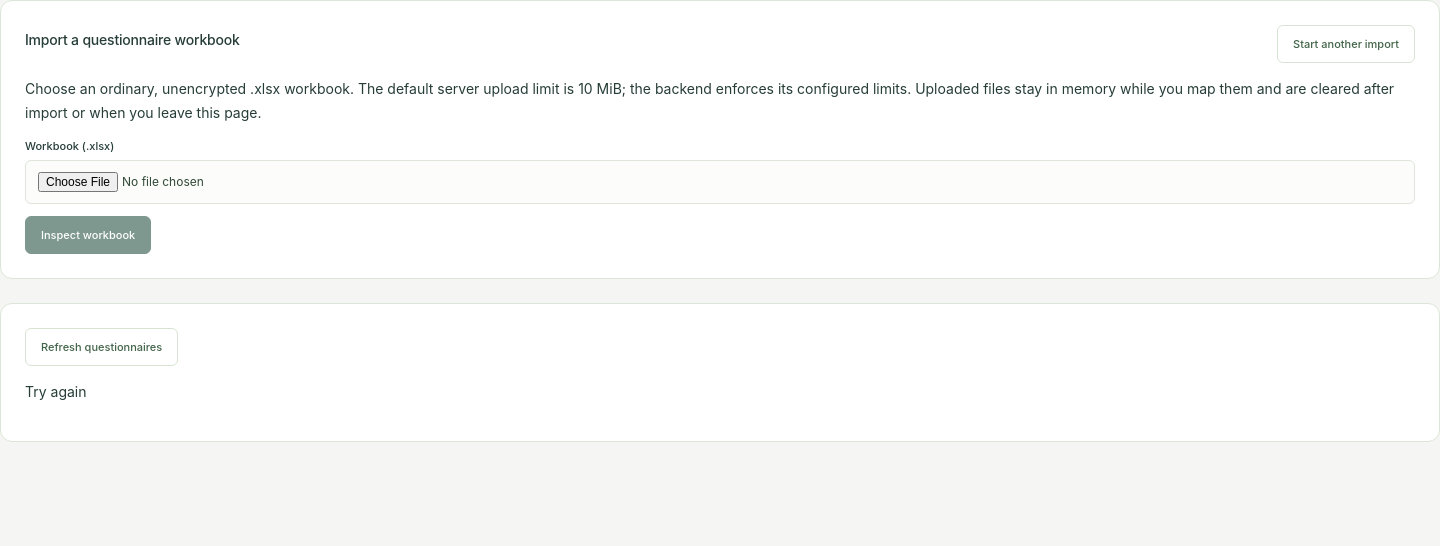
Test case: shows list errors and supports refresh
Expected: the message reads "Try again", top-left (25, 383), bottom-right (86, 400)
Step 1. Click the button "Refresh questionnaires" → (102, 347), box top-left (25, 328), bottom-right (178, 366)
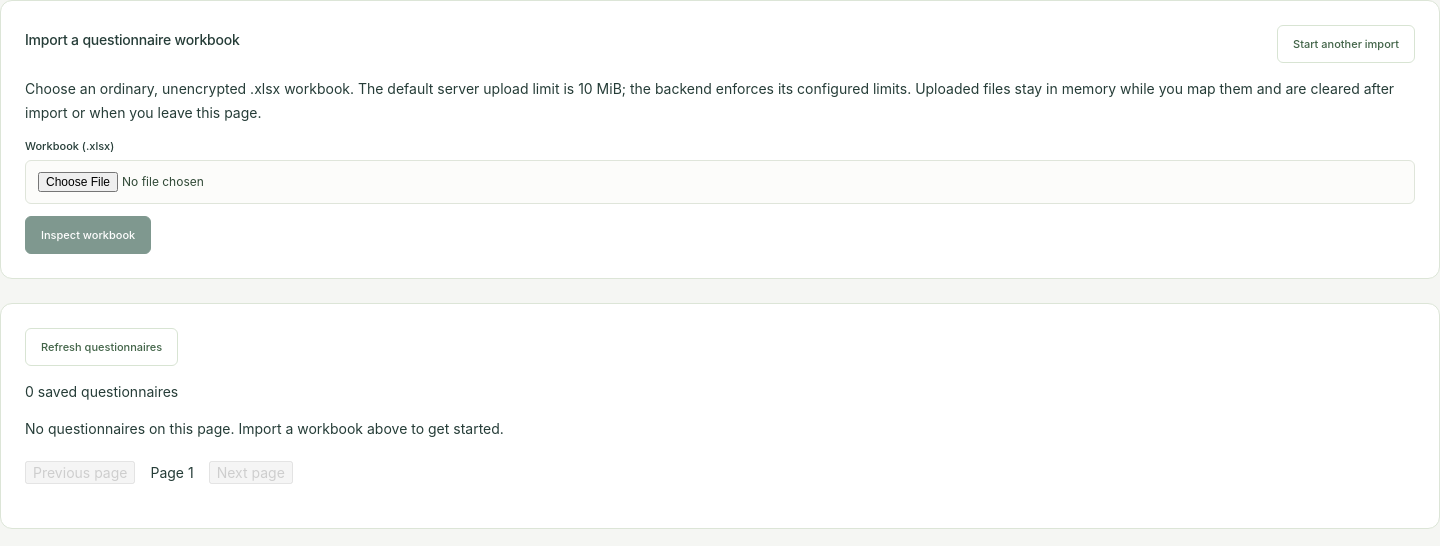
Now the text "No questionnaires on this page" is shown, box top-left (25, 420), bottom-right (504, 437)
